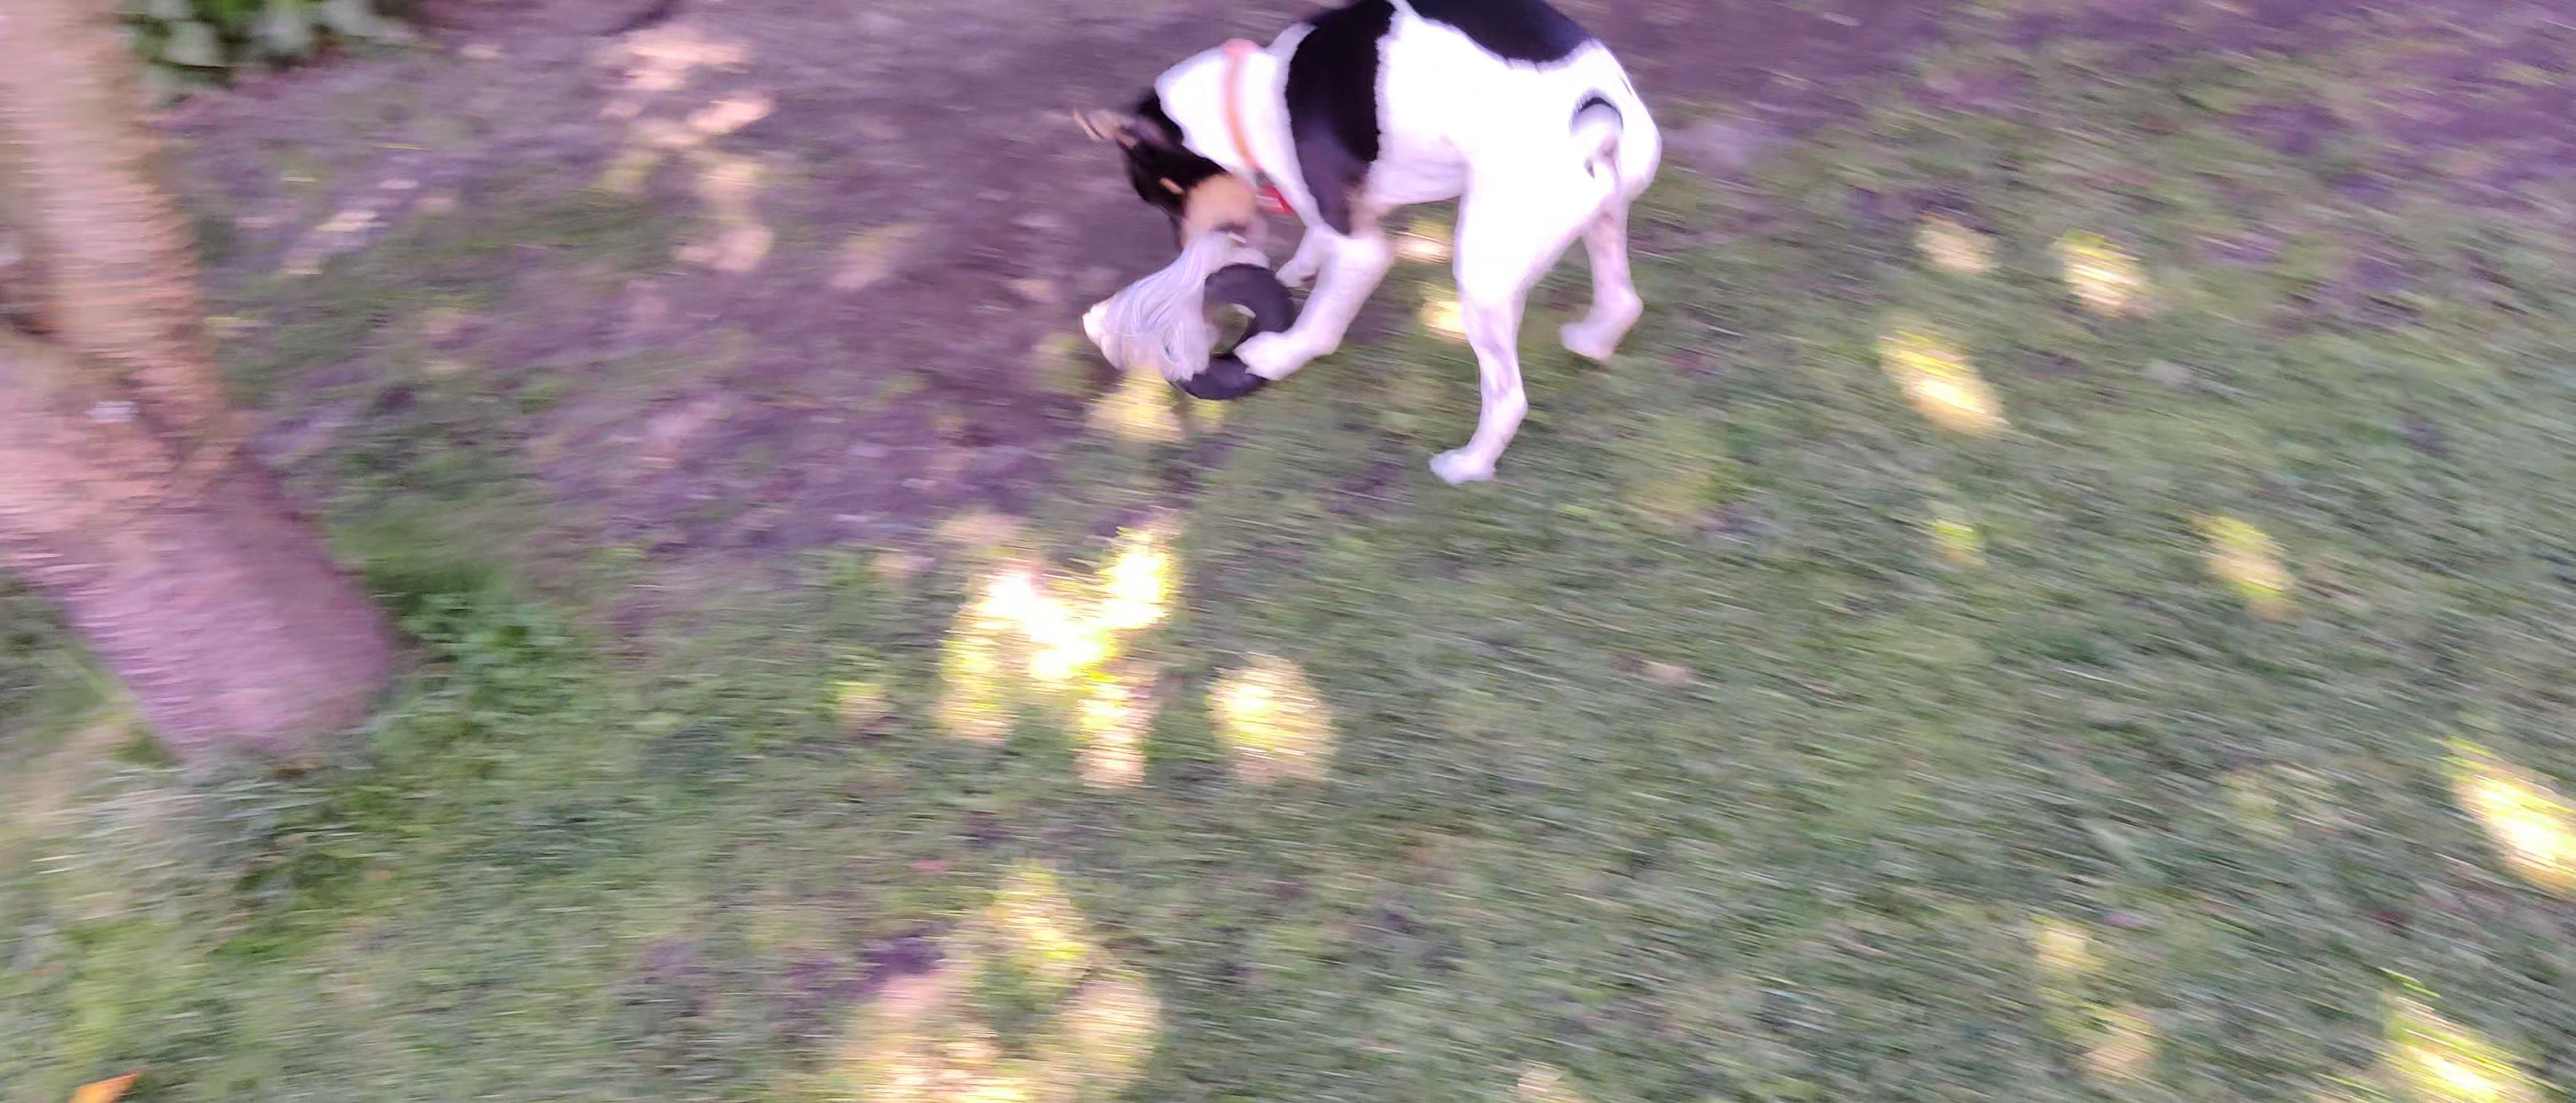Dog: (1048, 0, 1690, 493)
